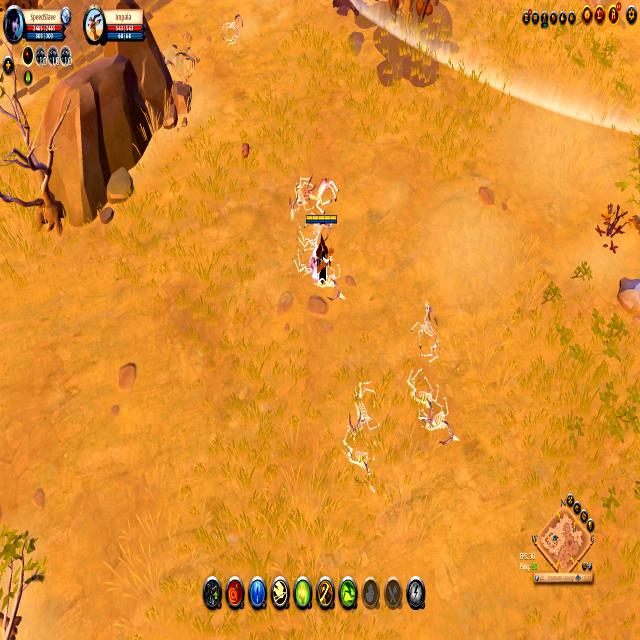mob: (303, 171, 339, 215)
red: (306, 211, 336, 278)
